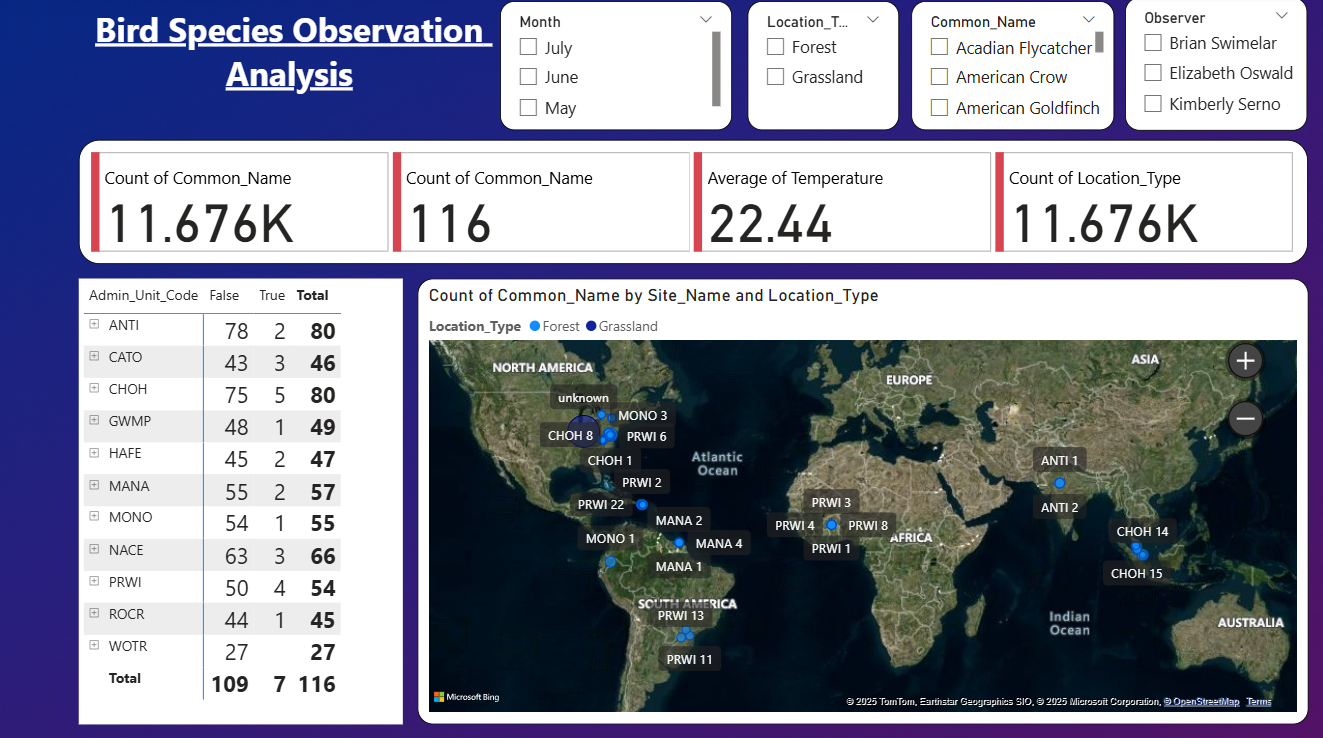

The page's visual inventory and layout, read from the dashboard file:
{"tool":"powerbi","page":{"name":"Map & metrices Dashboard","canvas":[1280,720],"ordinal":1},"visuals":[{"type":"slicer","fields":{"Values":["Bird_Species_Cleaned_Data.Month"]},"box":[482.5,5,223.8,125],"z":0},{"type":"slicer","fields":{"Values":["Bird_Species_Cleaned_Data.Location_Type"]},"box":[721.2,5,146.2,125],"z":1000},{"type":"slicer","fields":{"Values":["Bird_Species_Cleaned_Data.Common_Name"]},"box":[880,5,196.2,125],"z":2000},{"type":"slicer","fields":{"Values":["Bird_Species_Cleaned_Data.Observer"]},"box":[1086.2,1.2,176.2,128.8],"z":3000},{"type":"cardVisual","fields":{"Data":["Bird_Species_Cleaned_Data.Common_Name","Min(Bird_Species_Cleaned_Data.Common_Name)1","Bird_Species_Cleaned_Data.Temperature","Bird_Species_Cleaned_Data.Location_Type"]},"box":[76.2,138.8,1186.2,120],"z":4000},{"type":"textbox","box":[76.2,5,406.2,110],"z":5000},{"type":"map","fields":{"Category":["Bird_Species_Cleaned_Data.Site_Name"],"Series":["Bird_Species_Cleaned_Data.Location_Type"],"Size":["Bird_Species_Cleaned_Data.Common_Name"]},"box":[402.5,272.5,860,430],"z":6000},{"type":"pivotTable","fields":{"Values":["Bird_Species_Cleaned_Data.Common_Name"],"Columns":["Bird_Species_Cleaned_Data.PIF_Watchlist_Status"],"Rows":["Bird_Species_Cleaned_Data.Admin_Unit_Code","Bird_Species_Cleaned_Data.Month"]},"box":[76.2,272.5,312.5,430],"z":7000}]}

Visuals, with their boxes in screenshot pixels (x1, y1, x2, y2), scaled from the page's 1280x720 canvas onto the 1323x738 screenshot:
slicer - Bird_Species_Cleaned_Data.Month: (x1=499, y1=5, x2=730, y2=133)
slicer - Bird_Species_Cleaned_Data.Location_Type: (x1=745, y1=5, x2=897, y2=133)
slicer - Bird_Species_Cleaned_Data.Common_Name: (x1=910, y1=5, x2=1112, y2=133)
slicer - Bird_Species_Cleaned_Data.Observer: (x1=1123, y1=1, x2=1305, y2=133)
cardVisual - Bird_Species_Cleaned_Data.Common_Name x Min(Bird_Species_Cleaned_Data.Common_Name)1: (x1=79, y1=142, x2=1305, y2=265)
textbox: (x1=79, y1=5, x2=499, y2=118)
map - Bird_Species_Cleaned_Data.Site_Name x Bird_Species_Cleaned_Data.Location_Type: (x1=416, y1=279, x2=1305, y2=720)
pivotTable - Bird_Species_Cleaned_Data.Common_Name x Bird_Species_Cleaned_Data.PIF_Watchlist_Status: (x1=79, y1=279, x2=402, y2=720)
